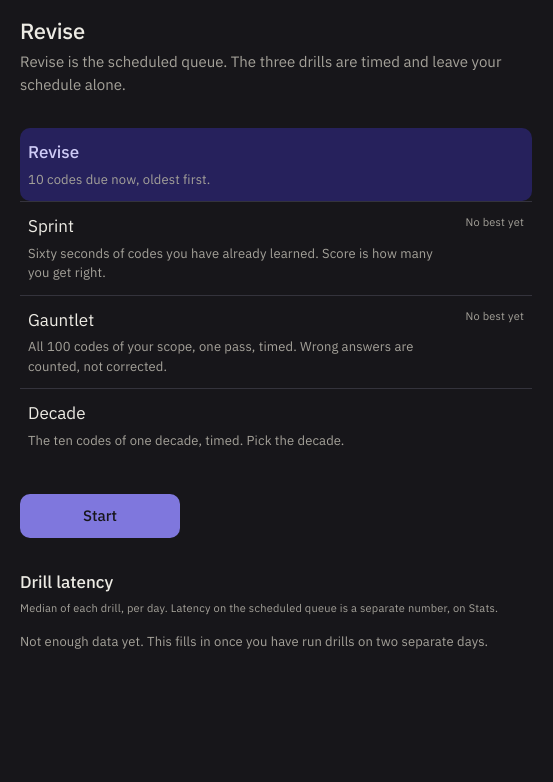
Test: ReviseScreen with a learned block › reveals the ten decades once Decade is picked, and holds Start shut until one is
This screenshot has width=553, height=782.
Check: the heading "Revise" is shown, box [20, 16, 85, 45]
Step 1. Click the radio button labelled "Decade The ten codes of one decade, timed. Pick the decade." → (57, 413), box [20, 389, 532, 462]
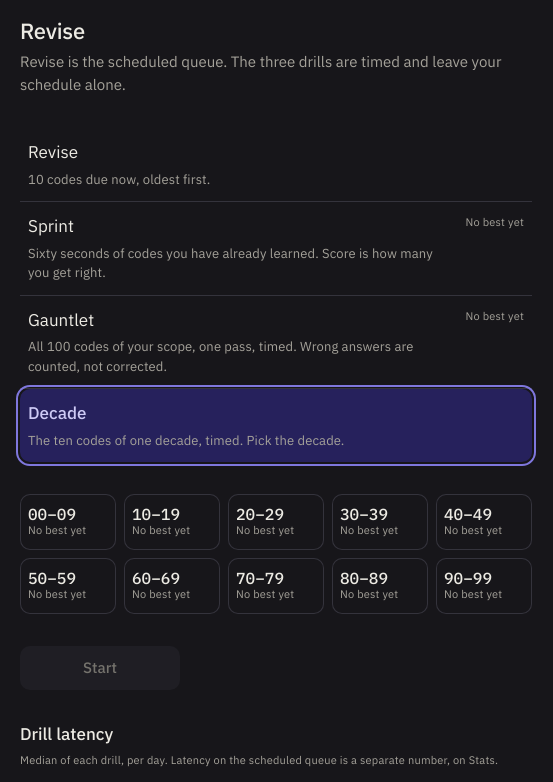
Check: the radio button with aria-label "Decade 40–49" is shown
Check: the button "Start" is disabled, box [20, 646, 180, 690]
Step 2. Click the radio button with aria-label "Decade 40–49" → (484, 522), box [436, 494, 532, 550]
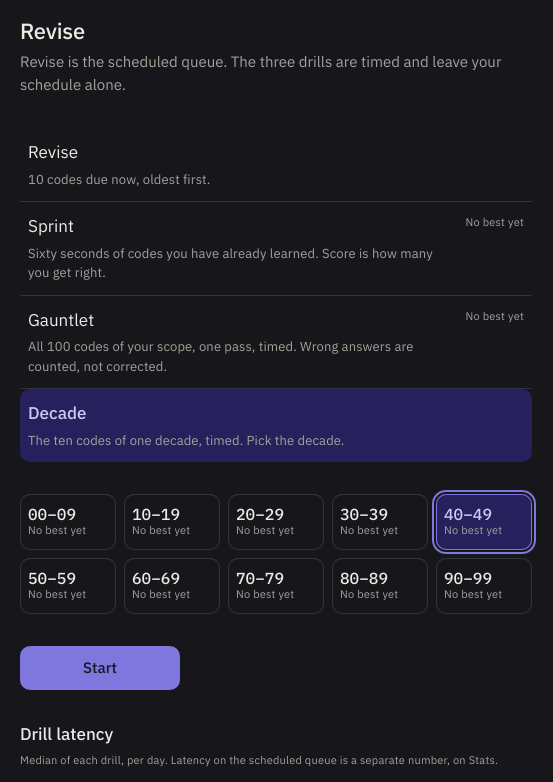
Check: the button "Start" is enabled, box [20, 646, 180, 690]
